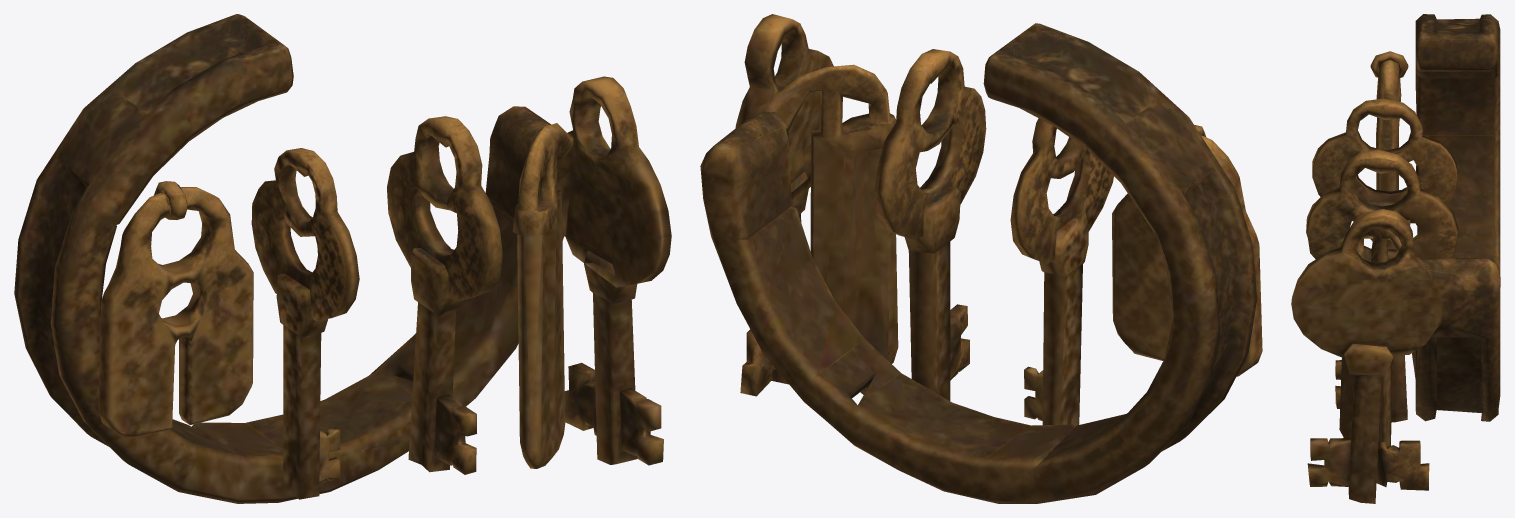
File: key_ring.glb
3 views of the same model, side by side, from view 1: azimuth 30°, elevation 25°; view 2: azimuth 150°, elevation 25°; view 3: azimuth 270°, elevation 25° (orthographic). The views are drawn at different scales.
Bounding box in the file's own units: 0.16 × 0.1321 × 0.0708.
1 material, 1 textured.
